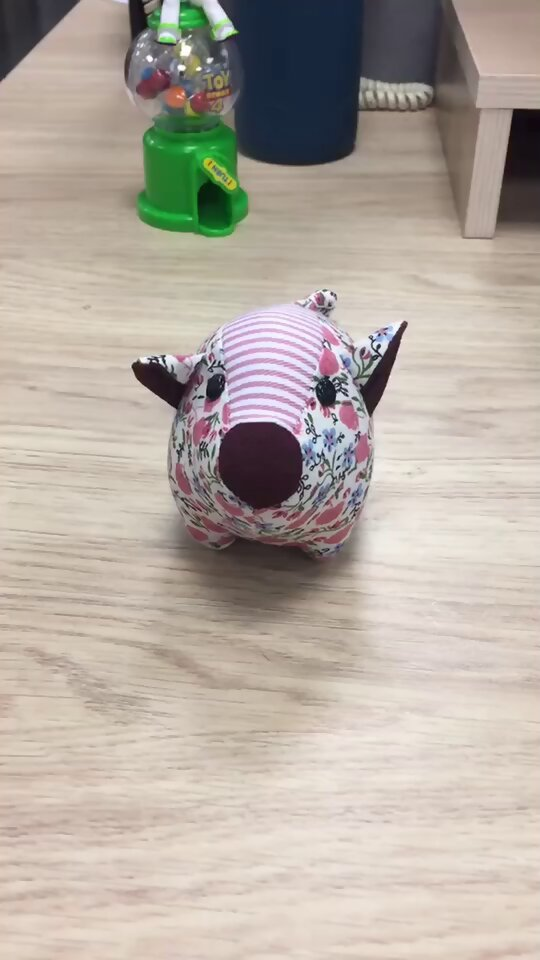pig: (128, 285, 409, 569)
